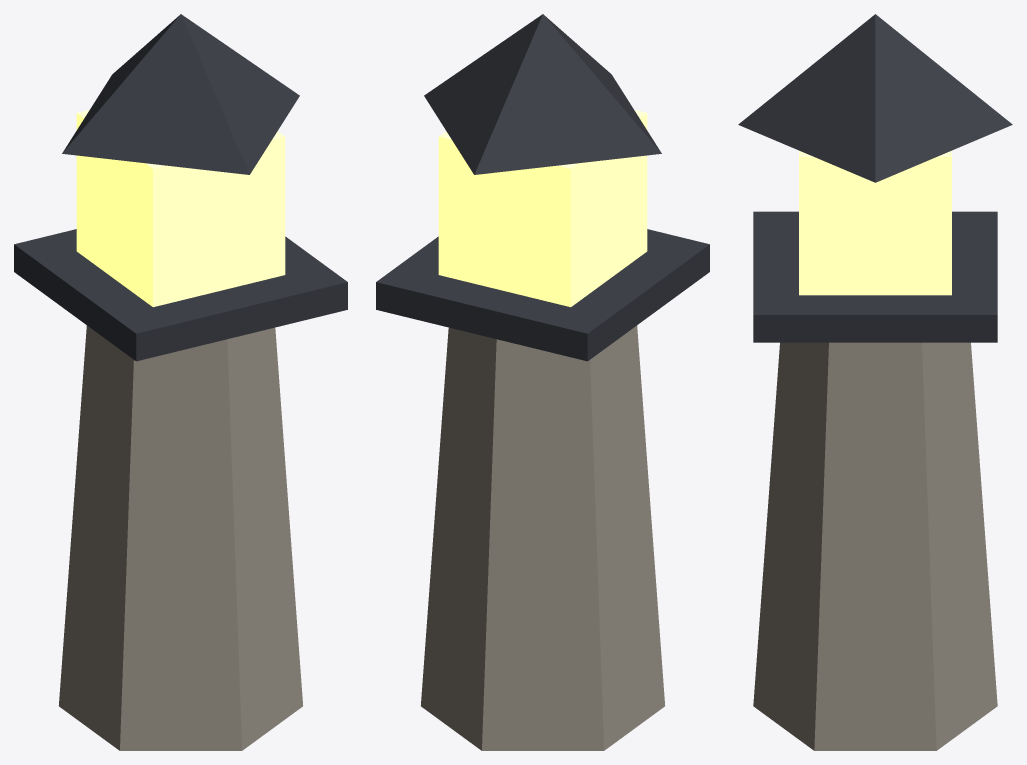
The model's file is beacon_light.glb.
The picture shows the model from 3 angles, left to right: view 1: azimuth 30°, elevation 25°; view 2: azimuth 150°, elevation 25°; view 3: azimuth 270°, elevation 25°; orthographic projection.
Visible parts, largest first — view 1: beacon_light; view 2: beacon_light; view 3: beacon_light.
Boxes of the visible parts, x1,y1,x2,y2 form: beacon_light: (14, 14, 347, 750); beacon_light: (376, 14, 709, 750); beacon_light: (738, 14, 1012, 750).
Bounding box in the file's own units: 0.9 × 2.5 × 0.9.
